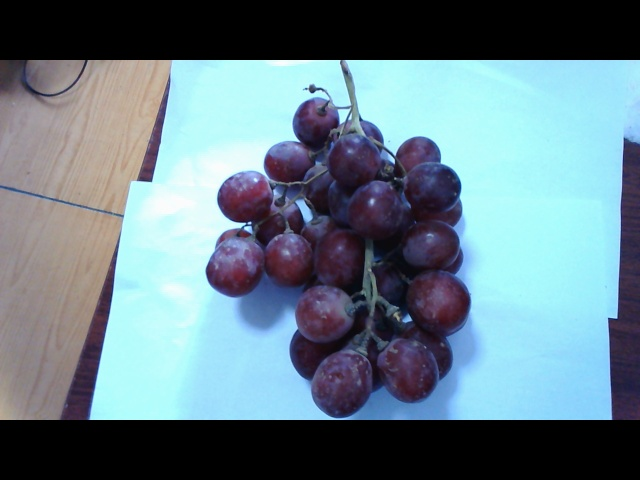grape: (197, 92, 472, 403)
